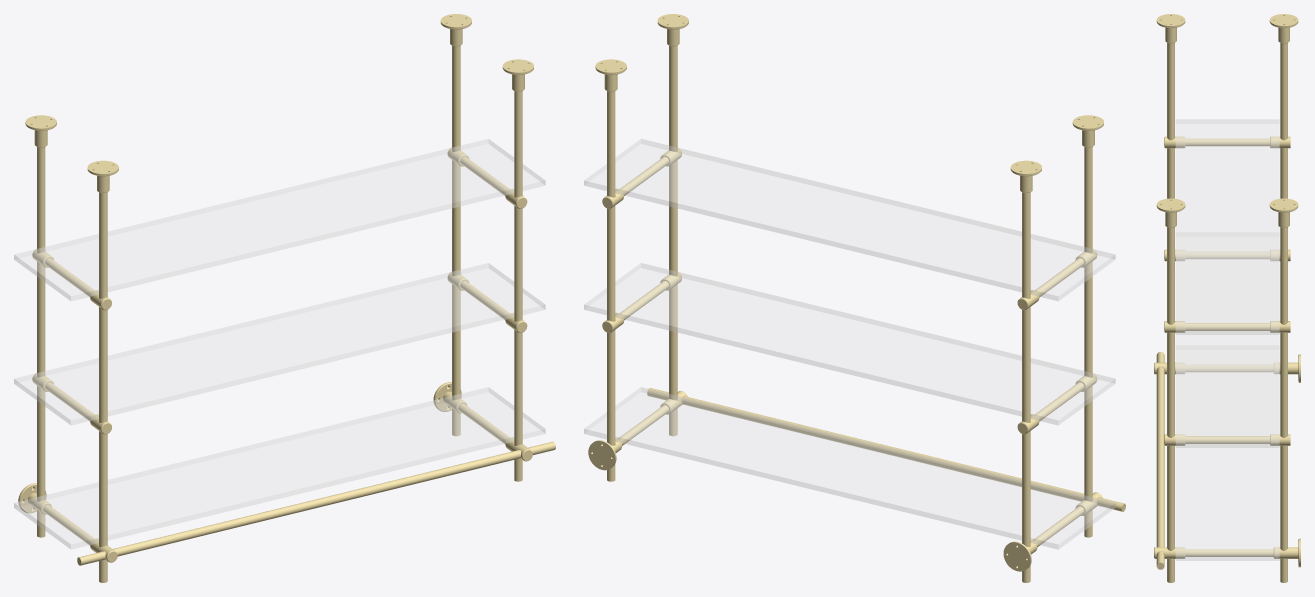
File: wall_ceiling_48w_40h_3s_br.glb
The picture shows the model from 3 angles, left to right: view 1: azimuth 30°, elevation 25°; view 2: azimuth 150°, elevation 25°; view 3: azimuth 270°, elevation 25°; orthographic projection. The views are drawn at different scales.
Parts seen in each view (by area): view 1: Glass Shelf (4) (×2), Glass Shelf (3), Crossbeam, Post (6), Post (7), Post (5), Post (4); view 2: Glass Shelf (4) (×2), Glass Shelf (3), Crossbeam, Post (6), Post (4), Post (7), Post (5), J Fitting (4); view 3: Glass Shelf (4) (×2), Glass Shelf (3), Post (6), Post (7), Crossbeam, Rod (12) (×2), Rod (13) (×2), Post (4), Post (5), Rod (11), Rod (10), A Fitting (5) (×2) (+11 smaller).
Boxes of the visible parts, x1,y1,x2,y2 form: Glass Shelf (4) (×2): [14, 139, 545, 425]; Glass Shelf (3): [14, 387, 545, 549]; Crossbeam: [77, 441, 555, 565]; Post (6): [514, 91, 522, 481]; Post (7): [452, 45, 460, 436]; Post (5): [37, 147, 45, 537]; Post (4): [99, 192, 107, 582]; Glass Shelf (4) (×2): [584, 139, 1115, 425]; Glass Shelf (3): [584, 387, 1115, 549]; Crossbeam: [647, 388, 1125, 511]; Post (6): [669, 45, 677, 436]; Post (4): [1084, 147, 1092, 537]; Post (7): [607, 91, 615, 481]; Post (5): [1022, 192, 1030, 582]; J Fitting (4): [1003, 541, 1031, 571]; Glass Shelf (4) (×2): [1176, 119, 1279, 447]; Glass Shelf (3): [1176, 345, 1279, 560]; Post (6): [1167, 227, 1174, 582]; Post (7): [1280, 227, 1287, 582]; Crossbeam: [1156, 352, 1164, 569]; Rod (12) (×2): [1185, 323, 1269, 443]; Rod (13) (×2): [1185, 138, 1269, 258]; Post (4): [1167, 43, 1174, 198]; Post (5): [1280, 43, 1287, 198]; Rod (11): [1185, 549, 1273, 556]; Rod (10): [1185, 365, 1273, 371]; A Fitting (5) (×2): [1164, 321, 1185, 445].
Bounding box in the file's own units: 1.22 × 1.02 × 0.3591.
